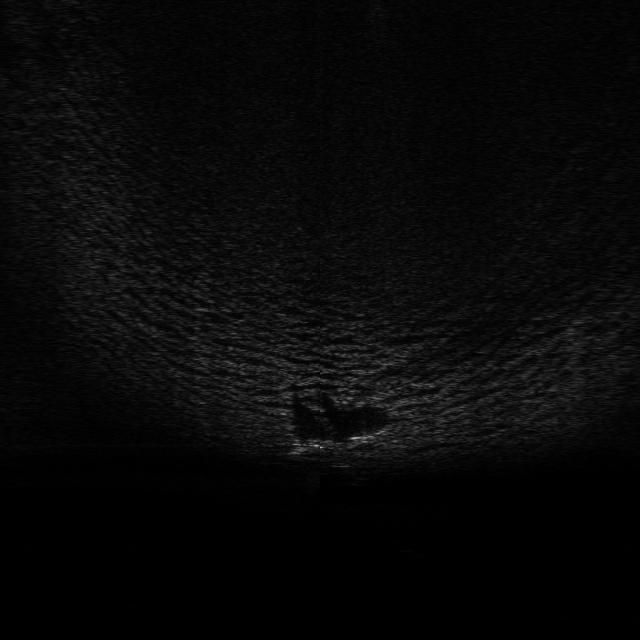plane: (282, 432, 369, 459)
